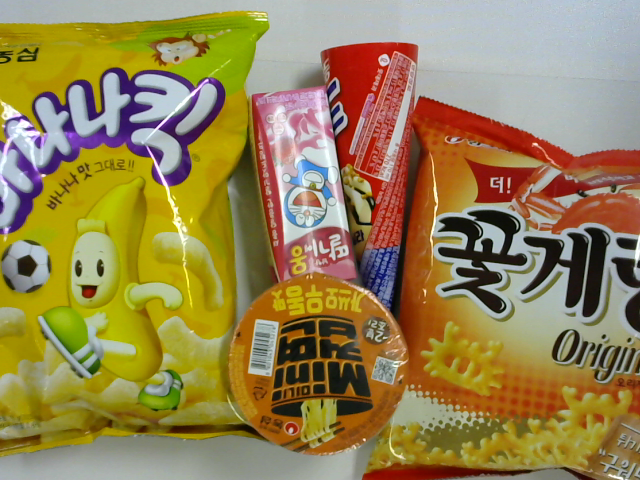Banana_Kick: (1, 10, 266, 453)
Crabrang: (366, 94, 640, 480)
Strawberry_E_Mong: (245, 85, 358, 293)
Udongmini: (230, 273, 409, 453)
World_Cone_Banila: (320, 43, 421, 321)
